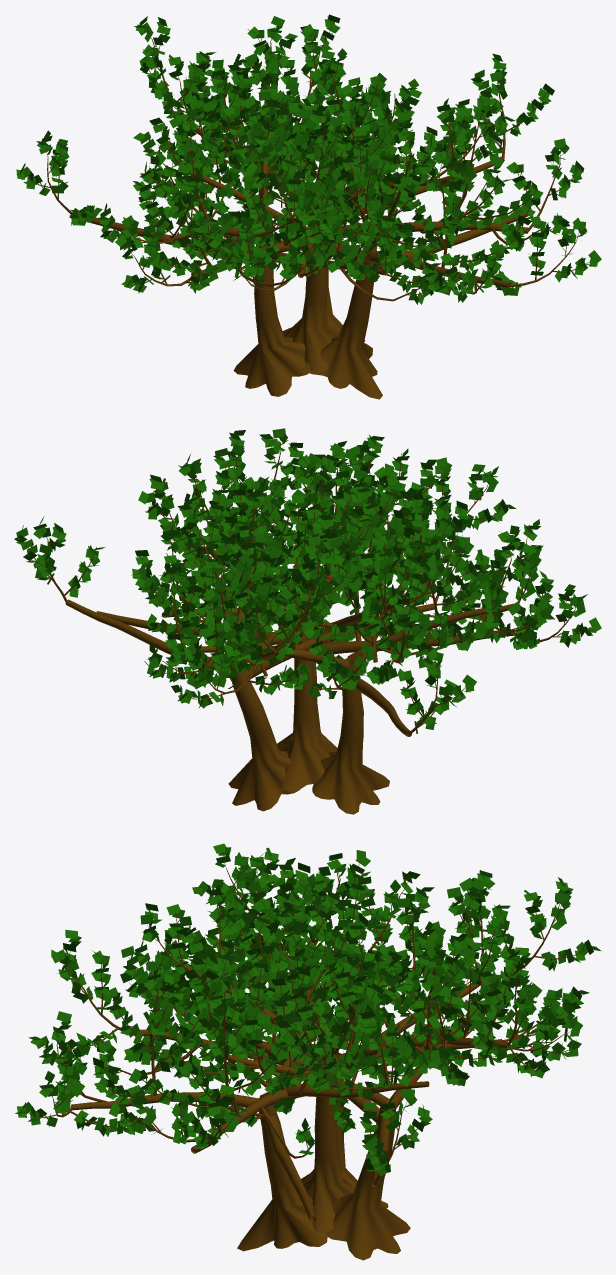
The model's file is Busch 3.FBX.
The picture shows the model from 3 angles, top to bottom: view 1: azimuth 30°, elevation 25°; view 2: azimuth 150°, elevation 25°; view 3: azimuth 270°, elevation 25°; orthographic projection. The views are drawn at different scales.
Visible parts, largest first — view 1: Foliage009; view 2: Foliage009; view 3: Foliage009.
Part boxes in pixels (x1=…): Foliage009: x1=16, y1=14, x2=601, y2=399; Foliage009: x1=14, y1=428, x2=601, y2=814; Foliage009: x1=15, y1=843, x2=601, y2=1260.
Bounding box in the file's own units: 350 × 213 × 327.
